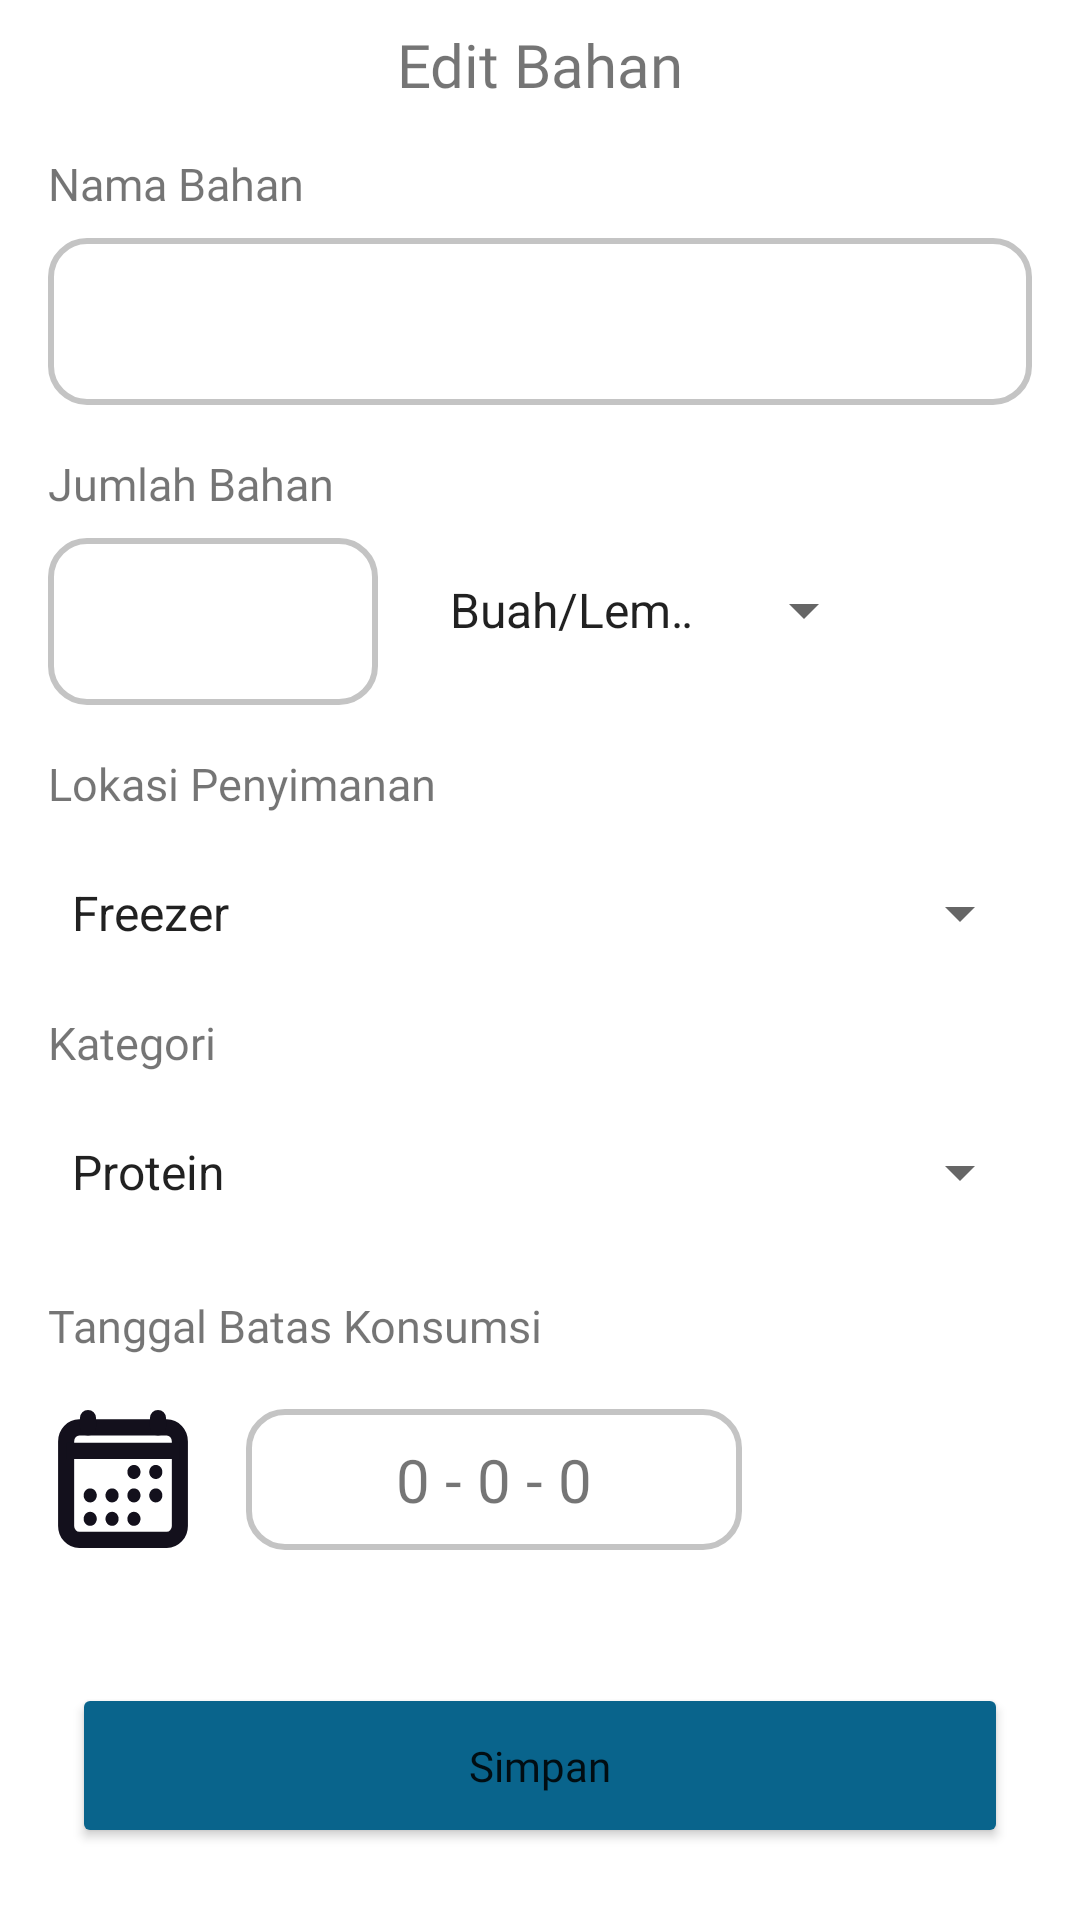

Named icons in this screenshot (1080w x 1920h) and their centers, (x,y):
calendar add: (123,1479)
